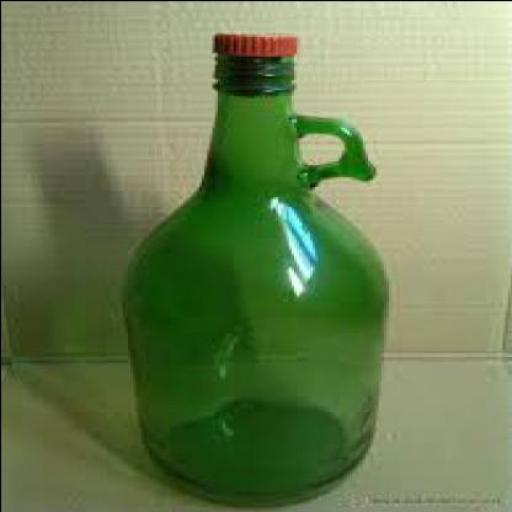cardboard: (1, 1, 510, 356), (379, 1, 510, 356), (0, 0, 122, 358)
glass: (116, 54, 382, 504)
plastic: (209, 27, 296, 52)
